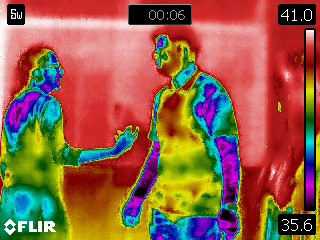human: (1, 45, 140, 239), (125, 25, 246, 240)
